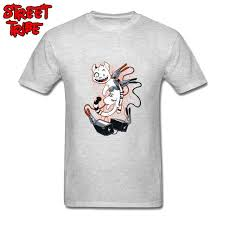cat: (84, 59, 117, 87)
